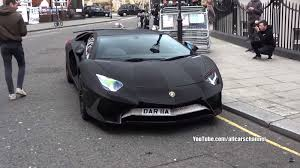Lamborghini: (65, 29, 222, 121)
